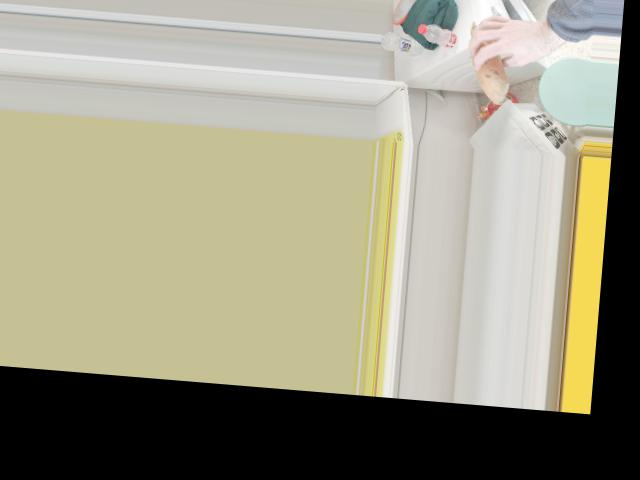sweet_potato: (466, 19, 507, 97)
